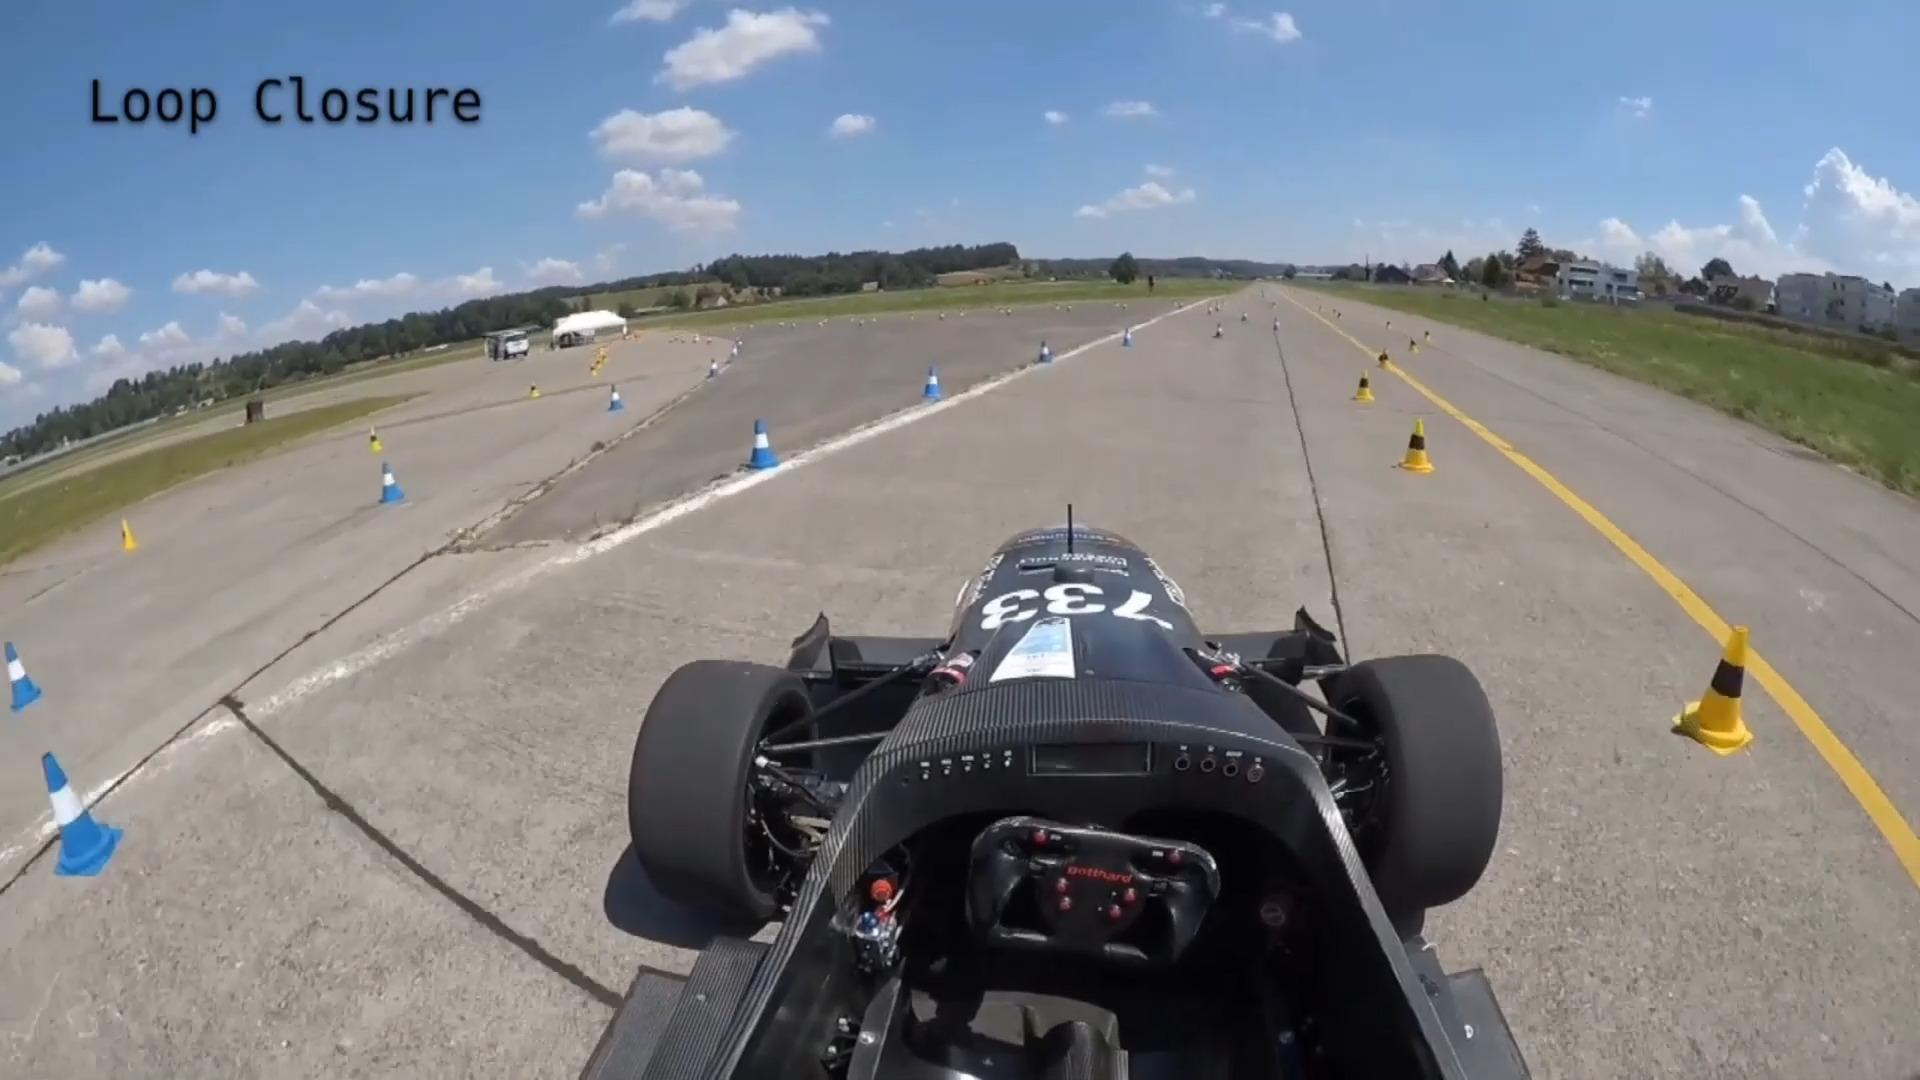blue_cone: (26, 748, 137, 876), (0, 638, 51, 709), (737, 421, 778, 477), (377, 462, 407, 506), (920, 368, 948, 404), (603, 380, 628, 413), (1036, 338, 1054, 367), (1116, 326, 1133, 351), (708, 359, 721, 378)
yellow_cone: (1677, 628, 1774, 749), (1390, 419, 1436, 477), (1349, 372, 1381, 409), (117, 518, 141, 558), (1375, 347, 1400, 375), (365, 425, 384, 452), (524, 378, 543, 404), (1404, 334, 1419, 357), (587, 363, 597, 378)
